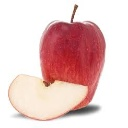apple: (8, 74, 89, 120)
